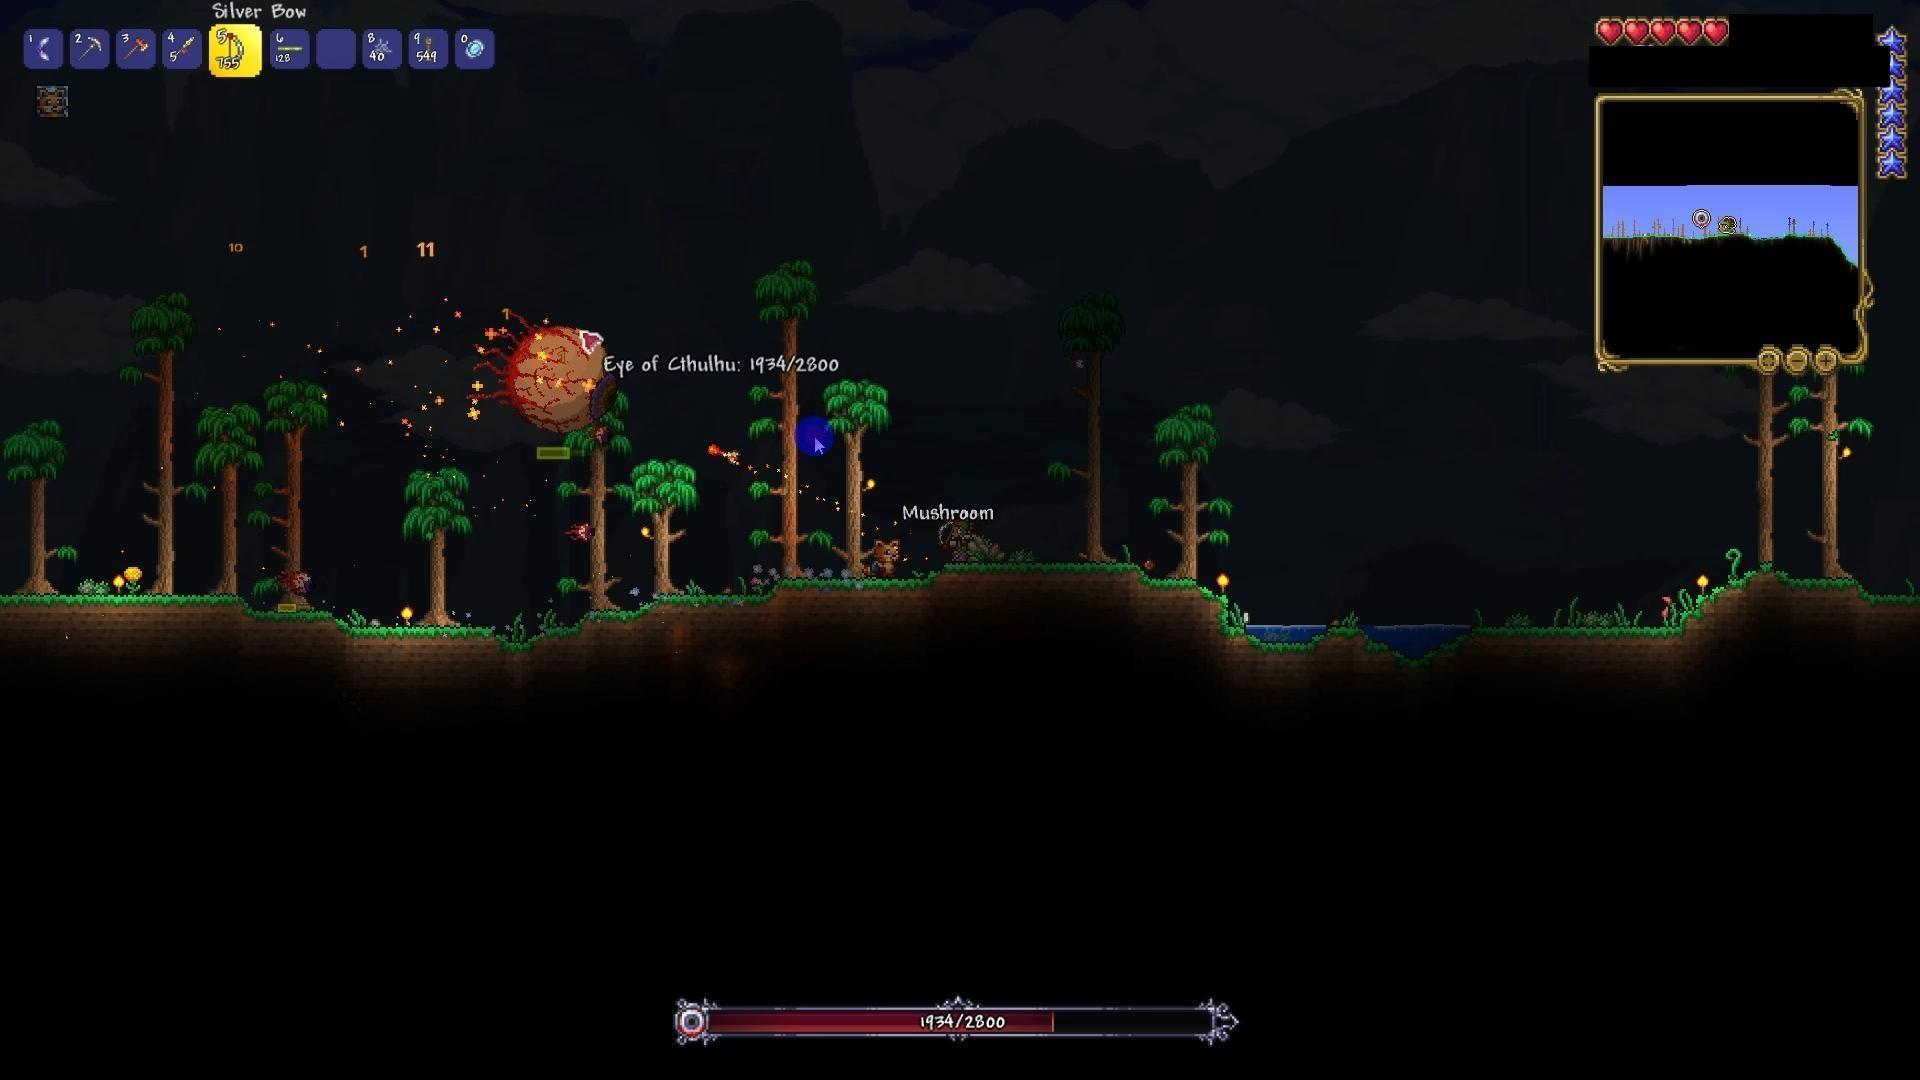dirt: (1254, 608, 1693, 708), (506, 582, 771, 654), (1684, 567, 1916, 645), (0, 582, 253, 637), (938, 559, 1145, 618), (1139, 568, 1261, 662), (771, 568, 943, 624), (339, 620, 497, 655), (237, 603, 345, 640)
heart: (1702, 17, 1733, 51), (1593, 16, 1626, 46), (1676, 15, 1704, 50), (1650, 16, 1676, 49), (1625, 15, 1651, 44)
liquid: (1369, 605, 1481, 655), (1232, 612, 1340, 638)
tree: (745, 253, 814, 582), (125, 297, 193, 589), (829, 373, 899, 568), (196, 378, 253, 608), (277, 375, 331, 593), (398, 452, 459, 640), (1156, 392, 1215, 585), (1817, 361, 1869, 576), (630, 439, 698, 593), (26, 397, 82, 576), (1749, 371, 1787, 572)
